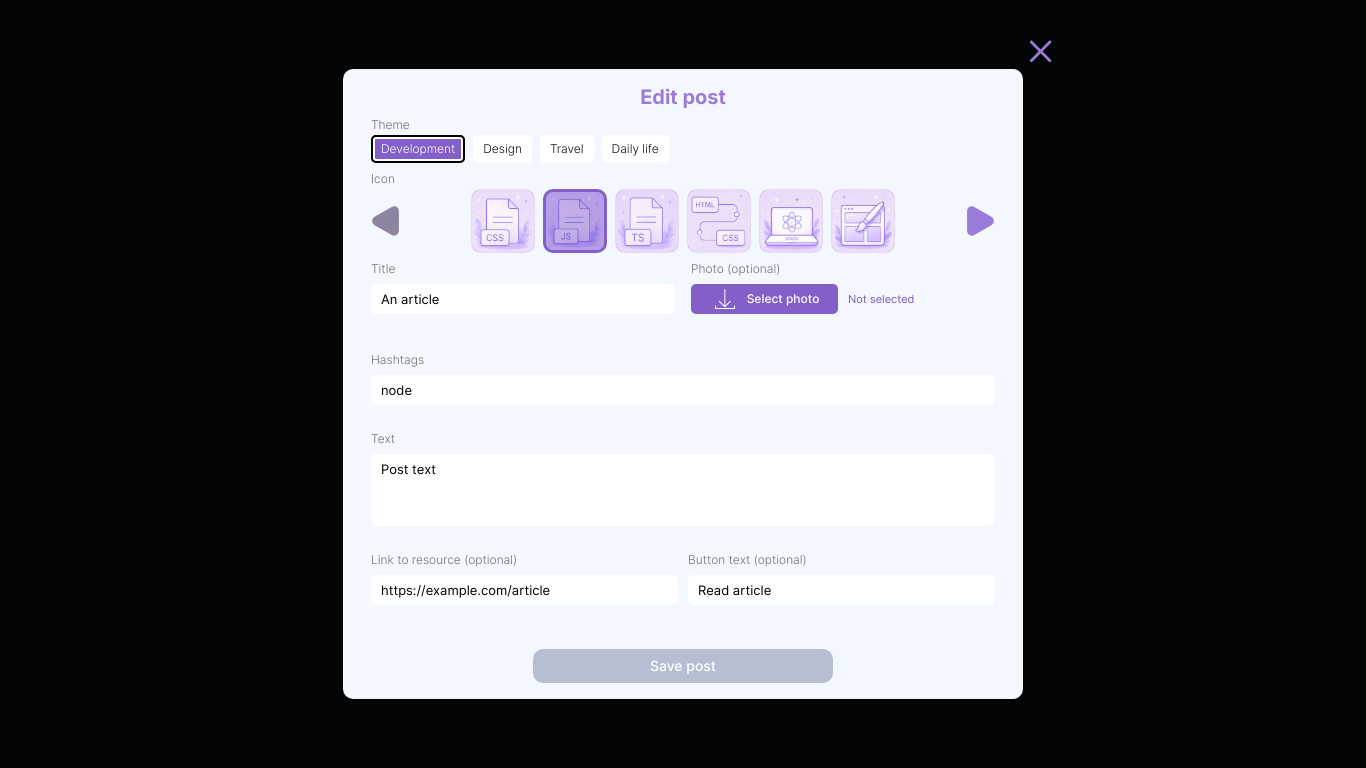
Test: Post external link forms › Persistent labels in edit post popup › asks for post text when its text field is cleared
Clear the text box labelled "Text" at coordinates (683, 490), box [371,454,995,526]
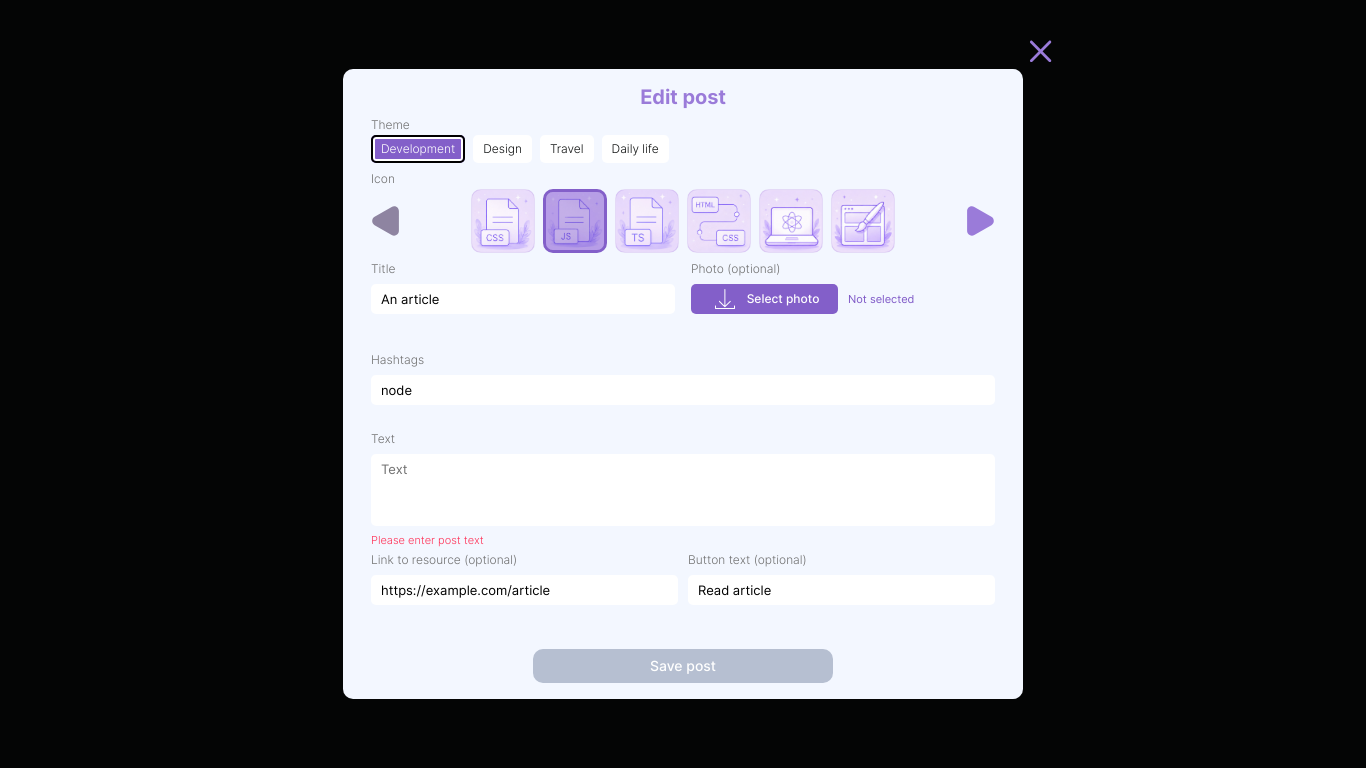
expect the text "Please enter post text" is shown: met, box [371,533,484,547]
